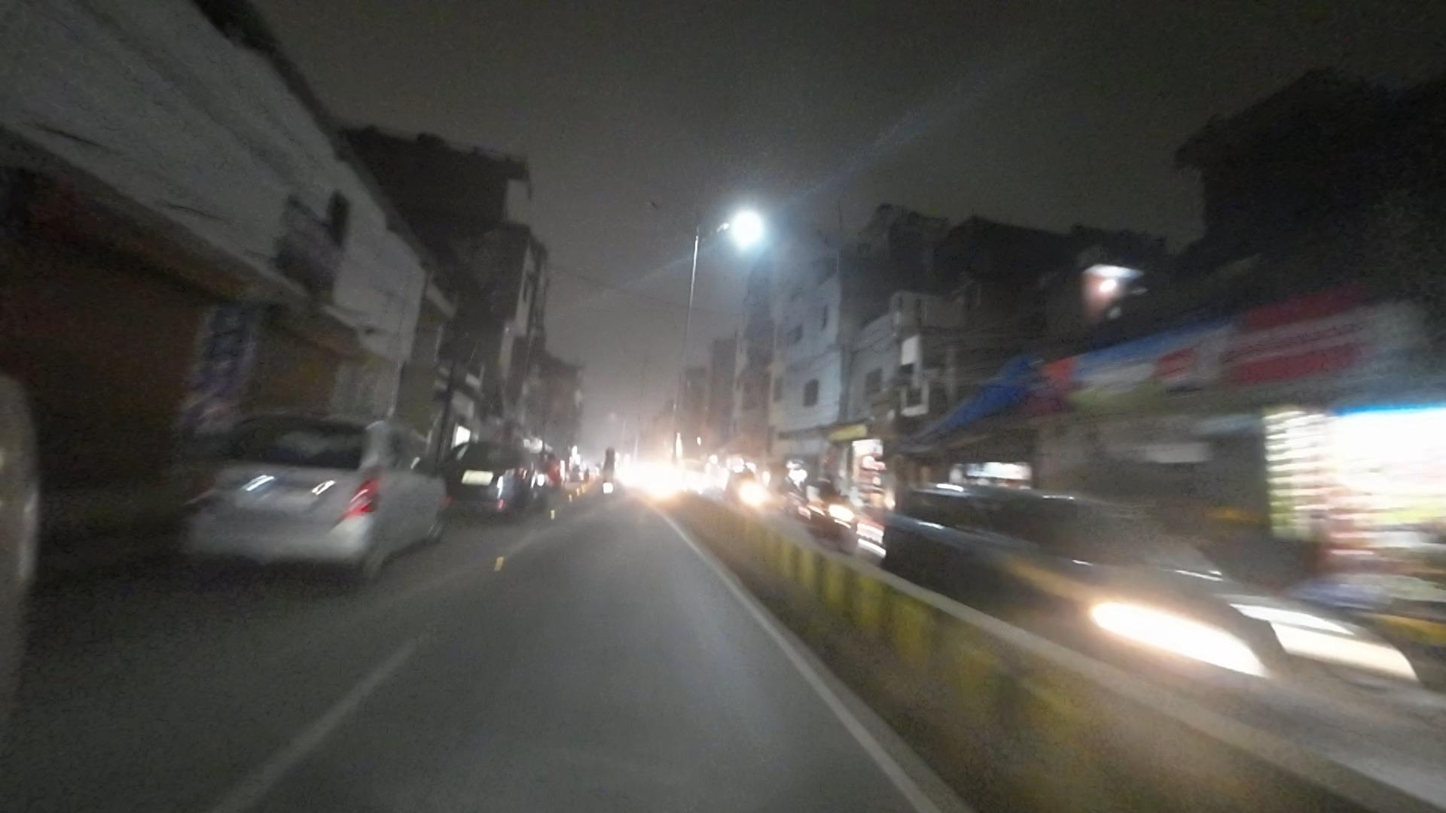streetlight: (643, 197, 692, 230)
